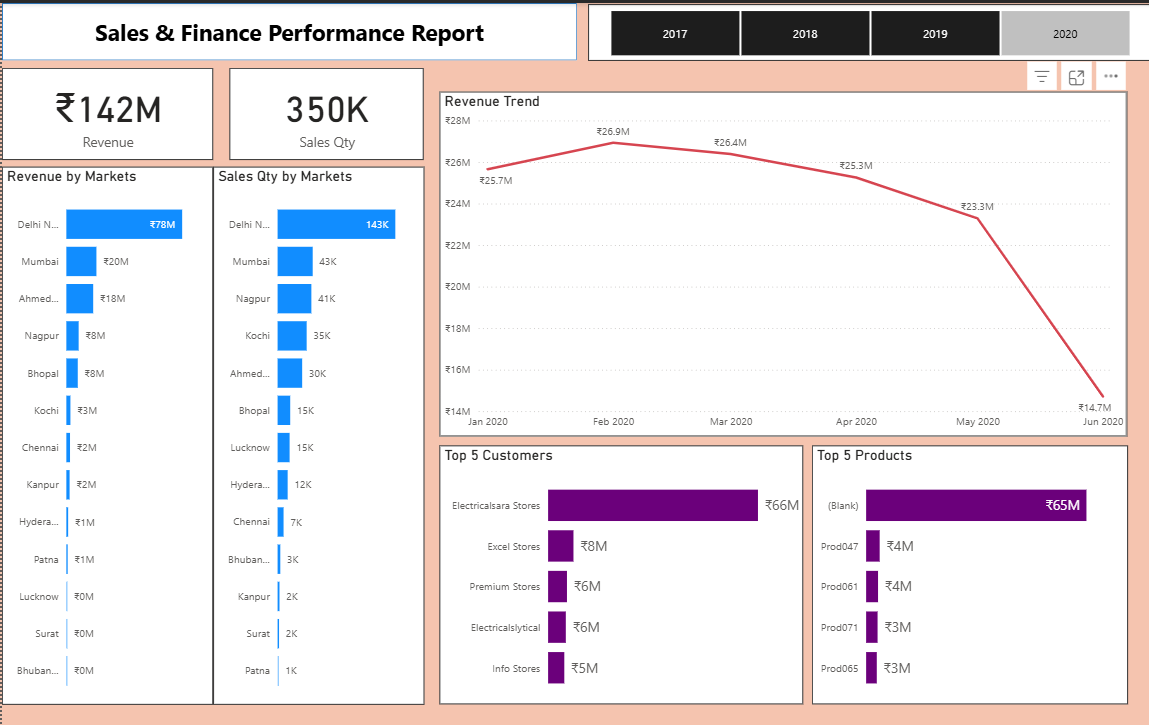

The dashboard page shown, as its layout file describes it:
{"tool":"powerbi","page":{"name":"Key Insights","canvas":[1350,850],"ordinal":0},"visuals":[{"type":"card","fields":{"Values":["BaseMeasures (2).Revenue"]},"box":[0,76.1,248,108],"z":0},{"type":"card","fields":{"Values":["BaseMeasures (2).Sales Qty"]},"box":[267.8,76.1,228.2,108],"z":1000},{"type":"barChart","title":"Revenue by Markets","fields":{"Y":["BaseMeasures (2).Revenue"],"Category":["sales markets.markets_name"]},"box":[0,193.1,247.9,631.9],"z":2000},{"type":"barChart","title":"Sales Qty by Markets","fields":{"Y":["BaseMeasures (2).Sales Qty"],"Category":["sales markets.markets_name"]},"box":[247.9,193.1,247.9,631.9],"z":3000},{"type":"slicer","fields":{"Values":["sales date.year"]},"box":[688.8,1.5,660.9,66.1],"z":4000},{"type":"barChart","title":"Top 5 Customers","fields":{"Y":["BaseMeasures (2).Revenue"],"Category":["sales customers.custmer_name"]},"box":[514.3,520.4,427.6,304.3],"z":6000},{"type":"barChart","title":"Top 5 Products","fields":{"Y":["BaseMeasures (2).Revenue"],"Category":["sales products.product_code"]},"box":[951,520.4,371.3,304.3],"z":7000},{"type":"lineChart","title":"Revenue Trend","fields":{"Y":["BaseMeasures (2).Revenue"],"Category":["sales date.cy_date"]},"box":[514.3,105,808,404.8],"z":8000},{"type":"shape","box":[0,0,675.5,67.6],"z":9000}]}

Visuals, with their boxes in screenshot pixels (x1, y1, x2, y2), scaled from the page's 1350x850 canvas onto the 1149x725 screenshot:
card - BaseMeasures (2).Revenue: (x1=0, y1=65, x2=211, y2=157)
card - BaseMeasures (2).Sales Qty: (x1=228, y1=65, x2=422, y2=157)
"Revenue by Markets" barChart: (x1=0, y1=165, x2=211, y2=704)
"Sales Qty by Markets" barChart: (x1=211, y1=165, x2=422, y2=704)
slicer - sales date.year: (x1=586, y1=1, x2=1148, y2=58)
"Top 5 Customers" barChart: (x1=438, y1=444, x2=802, y2=703)
"Top 5 Products" barChart: (x1=809, y1=444, x2=1125, y2=703)
"Revenue Trend" lineChart: (x1=438, y1=90, x2=1125, y2=435)
shape: (x1=0, y1=0, x2=575, y2=58)
